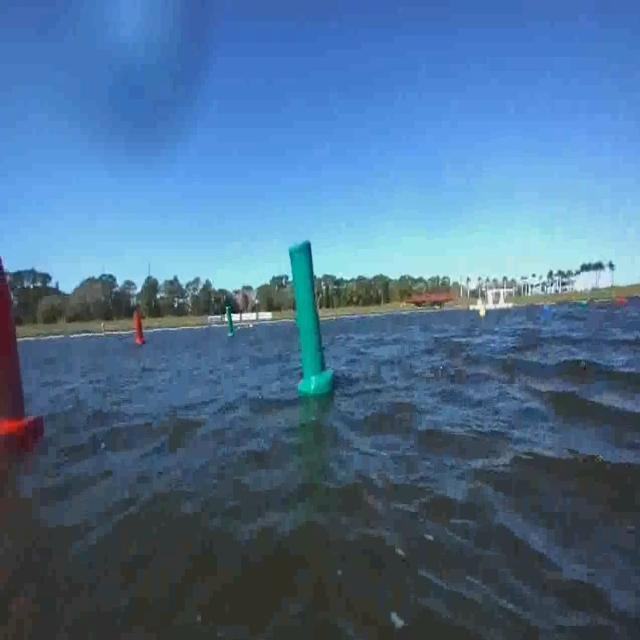green-column-buoy: (287, 236, 335, 397), (225, 308, 235, 340)
red-column-buoy: (0, 247, 43, 443), (135, 312, 147, 348)
